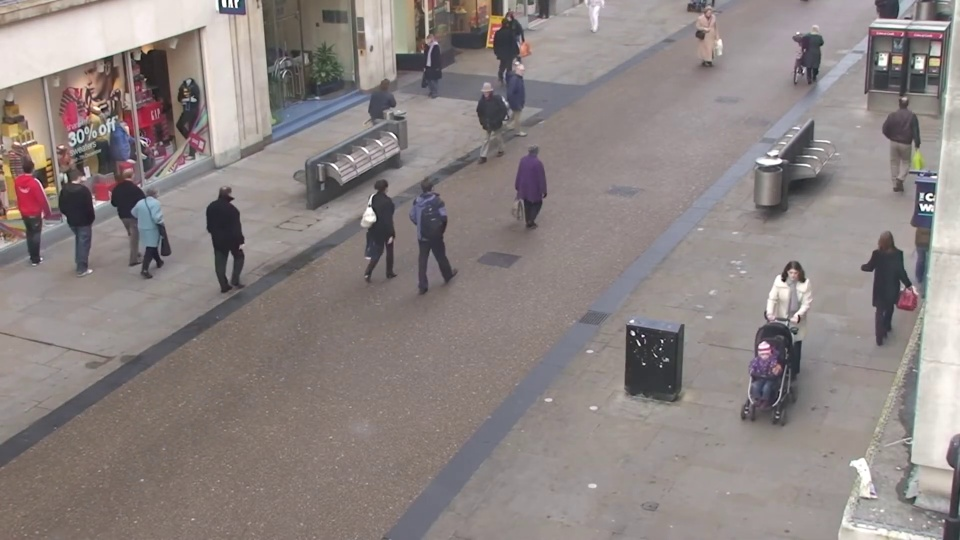pedestrian: (731, 337, 787, 491), (762, 258, 811, 392), (859, 218, 910, 342), (14, 155, 66, 260), (60, 165, 110, 271), (141, 175, 187, 284), (117, 162, 162, 267), (218, 177, 260, 287), (372, 167, 411, 277), (417, 168, 455, 279), (883, 90, 925, 183), (525, 135, 558, 237), (468, 83, 498, 169), (376, 74, 407, 157), (516, 61, 544, 142), (798, 18, 828, 90), (414, 33, 440, 105), (497, 15, 521, 82), (698, 6, 722, 72), (497, 11, 520, 77)
